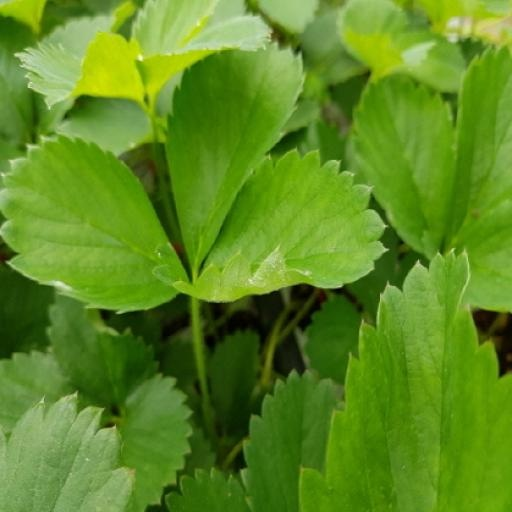Powdery Mildew Leaf: (325, 197, 511, 380), (122, 208, 340, 364)
